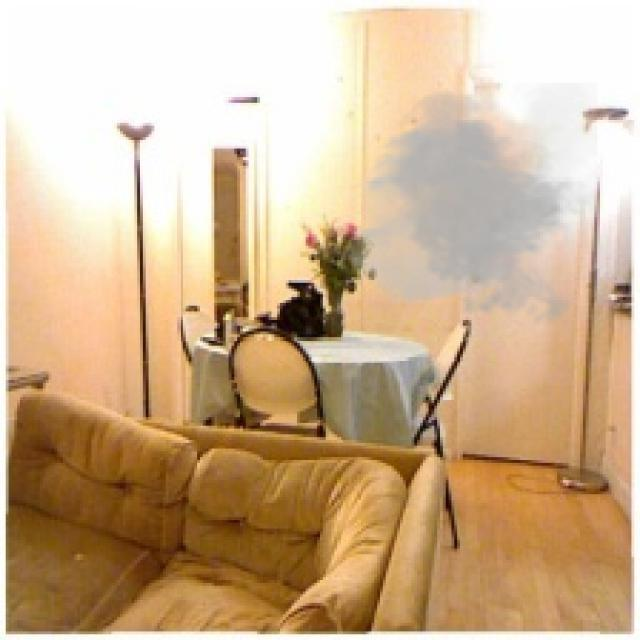Smoke: (342, 82, 598, 332)
